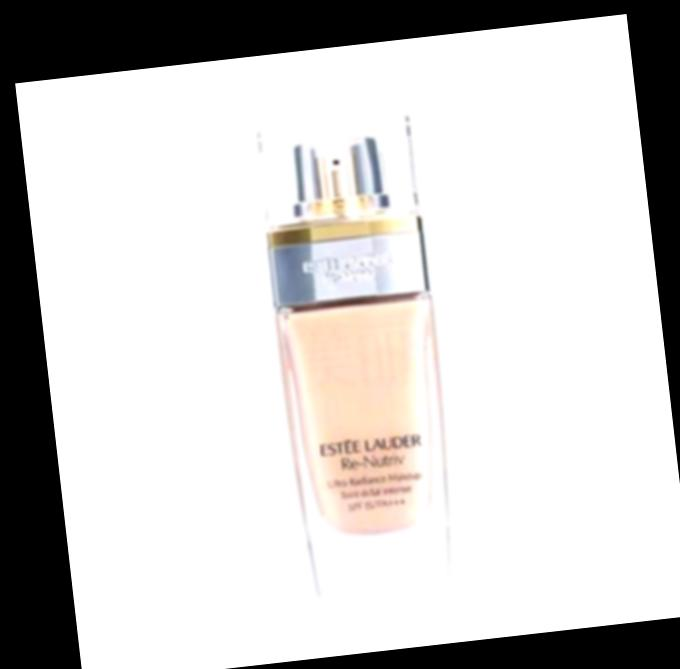cosmetic: (255, 114, 459, 600)
